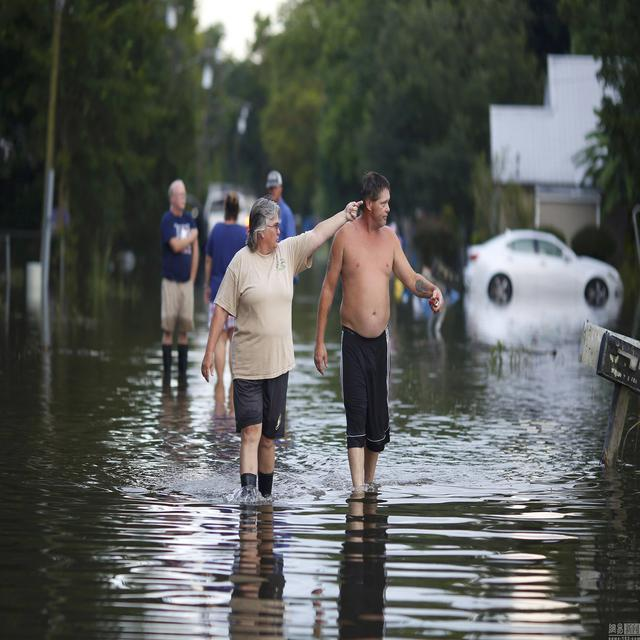Car-RiskLevel2: (464, 203, 633, 322)
Person-RiskLevel2: (209, 190, 363, 511), (321, 169, 437, 491), (150, 172, 211, 392)
